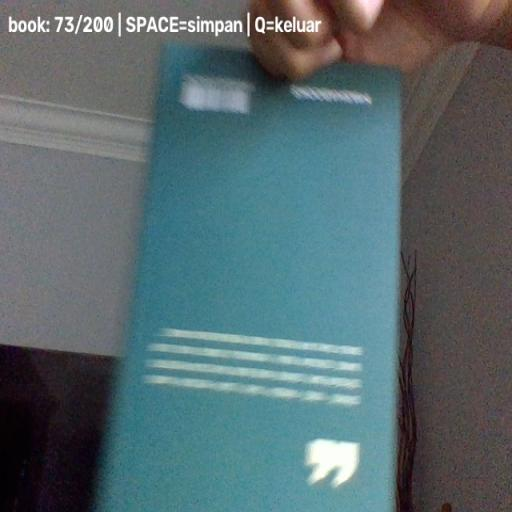Book: (95, 40, 402, 512)
